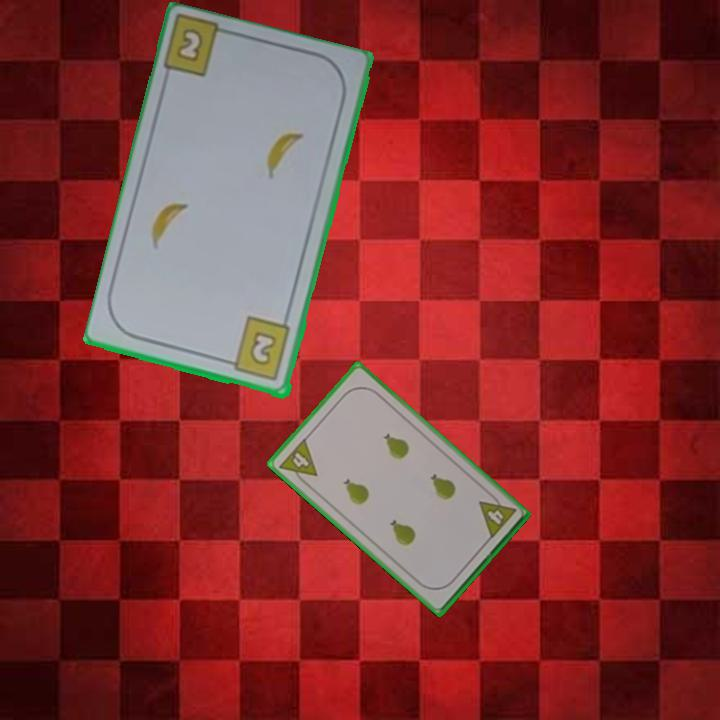2b: (222, 314, 294, 384), (173, 25, 207, 66)
4p: (275, 434, 320, 489), (475, 489, 519, 542)
